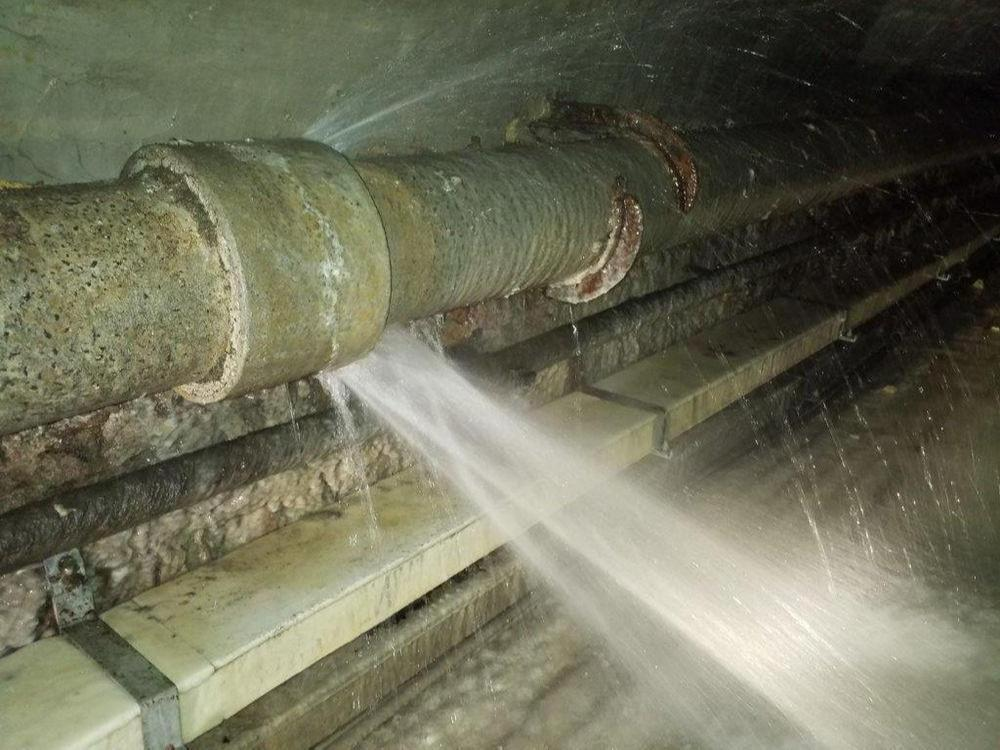pipe burst: (297, 304, 997, 750), (290, 22, 621, 164)
